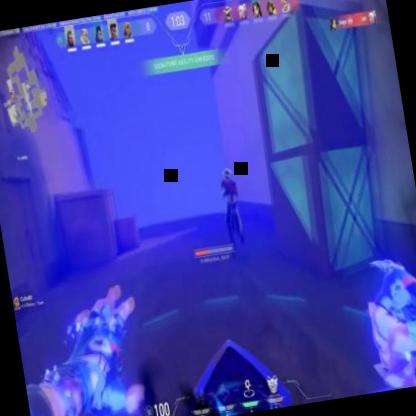enemy: (214, 163, 248, 258)
enemy_head: (220, 166, 233, 180)
